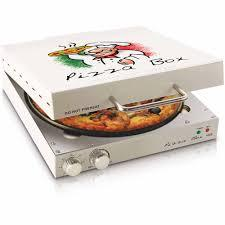Cardboard: (0, 17, 222, 205)
